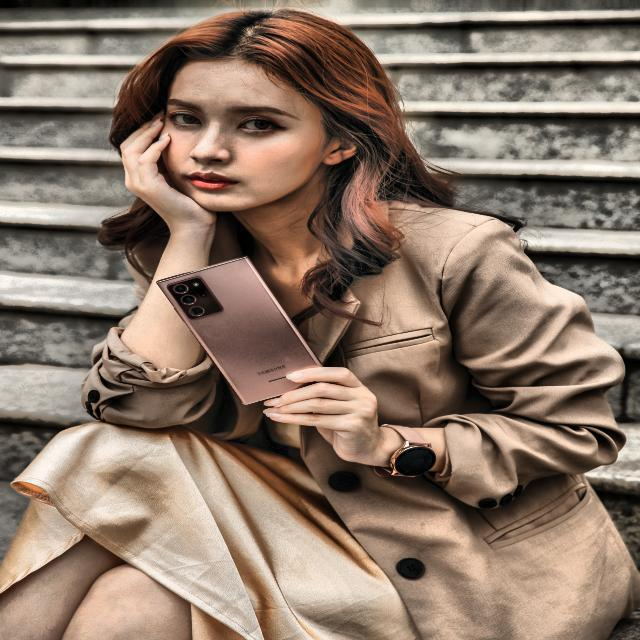Phone: (156, 254, 325, 407)
